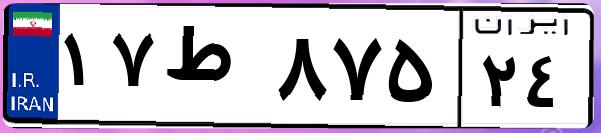1: (57, 26, 110, 100)
2: (475, 38, 525, 113)
4: (525, 38, 570, 115)
5: (385, 28, 445, 110)
7: (330, 28, 385, 110), (110, 28, 158, 98)
8: (270, 28, 330, 110)
ط: (158, 20, 270, 120)
